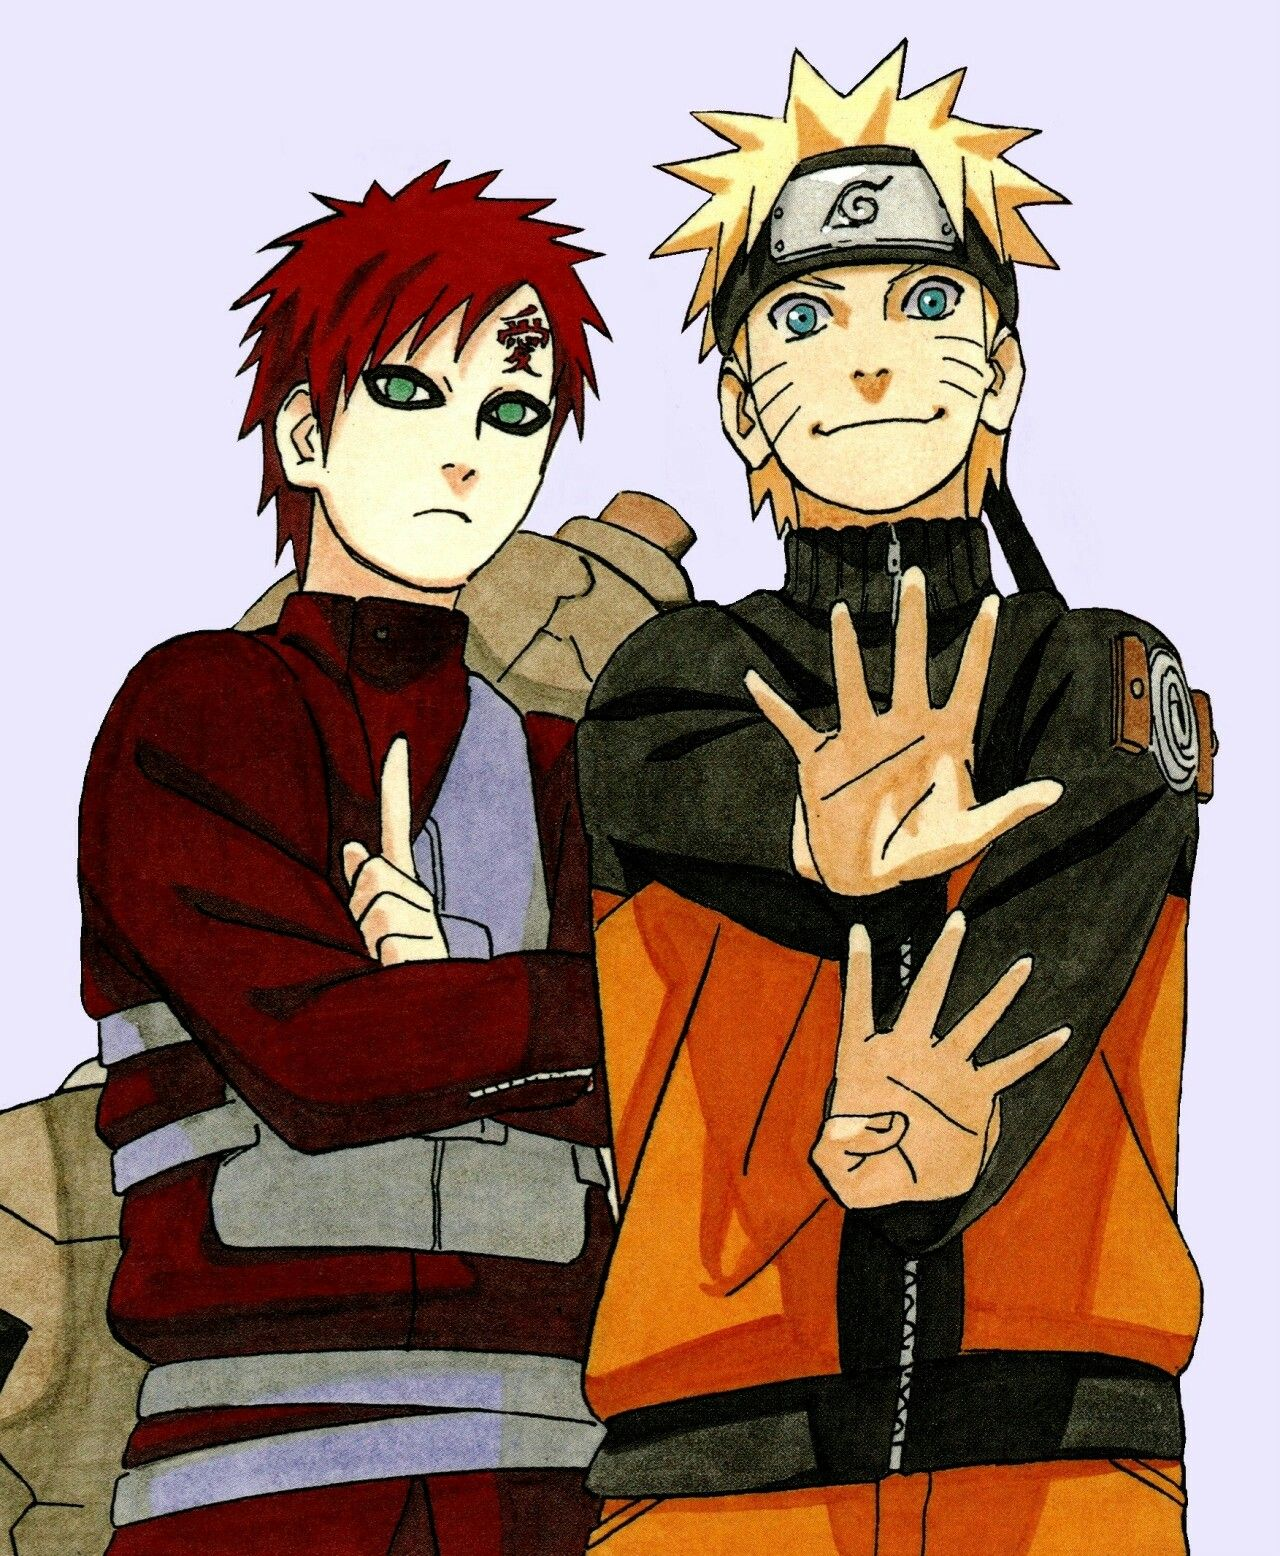gaara: (270, 266, 578, 596)
naruto: (714, 140, 1032, 520)
